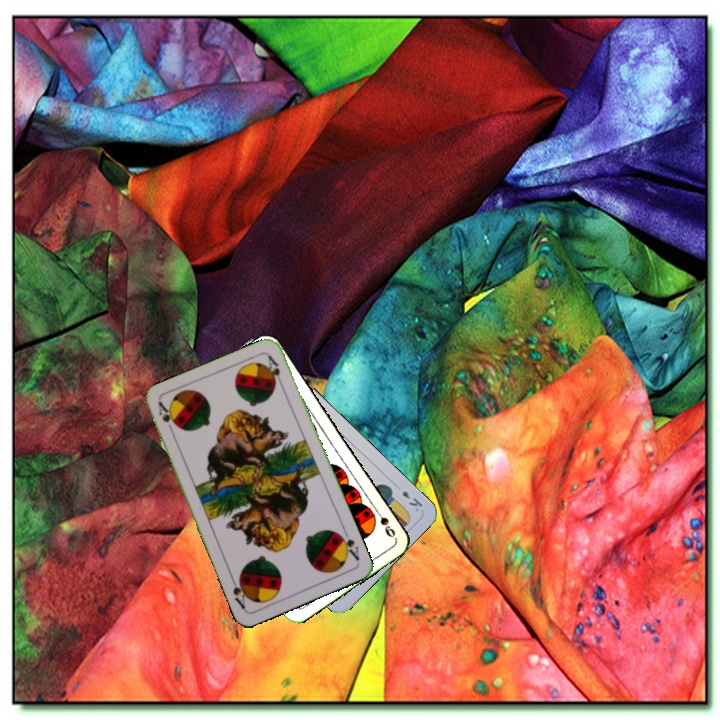EK: (397, 487, 426, 514)
S9: (370, 504, 398, 540)
SA: (333, 525, 362, 563), (154, 398, 179, 437)
